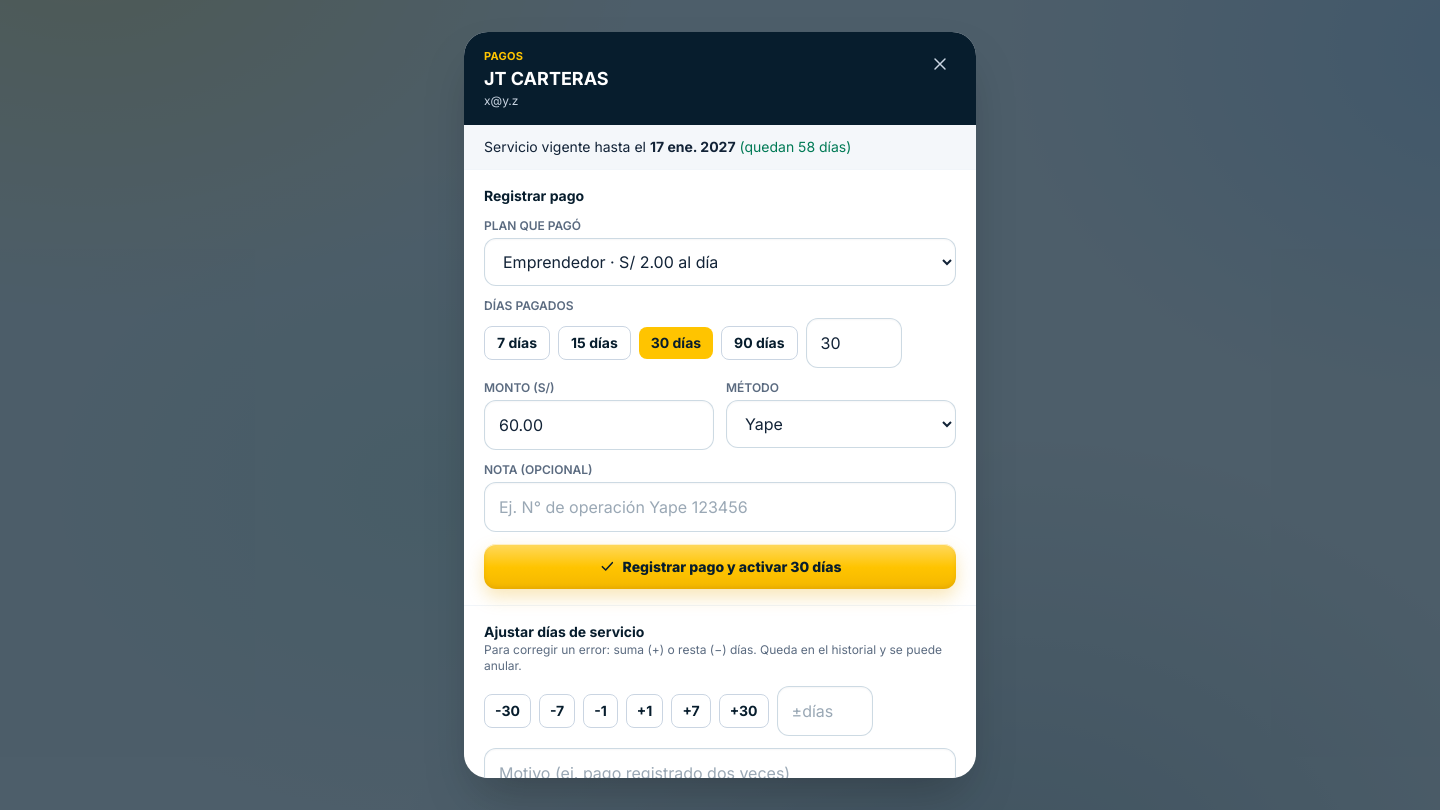
it: ajustar días exige motivo y envía el número con signo
Click the button "-7": (557, 711) top-left (539, 694), bottom-right (575, 728)
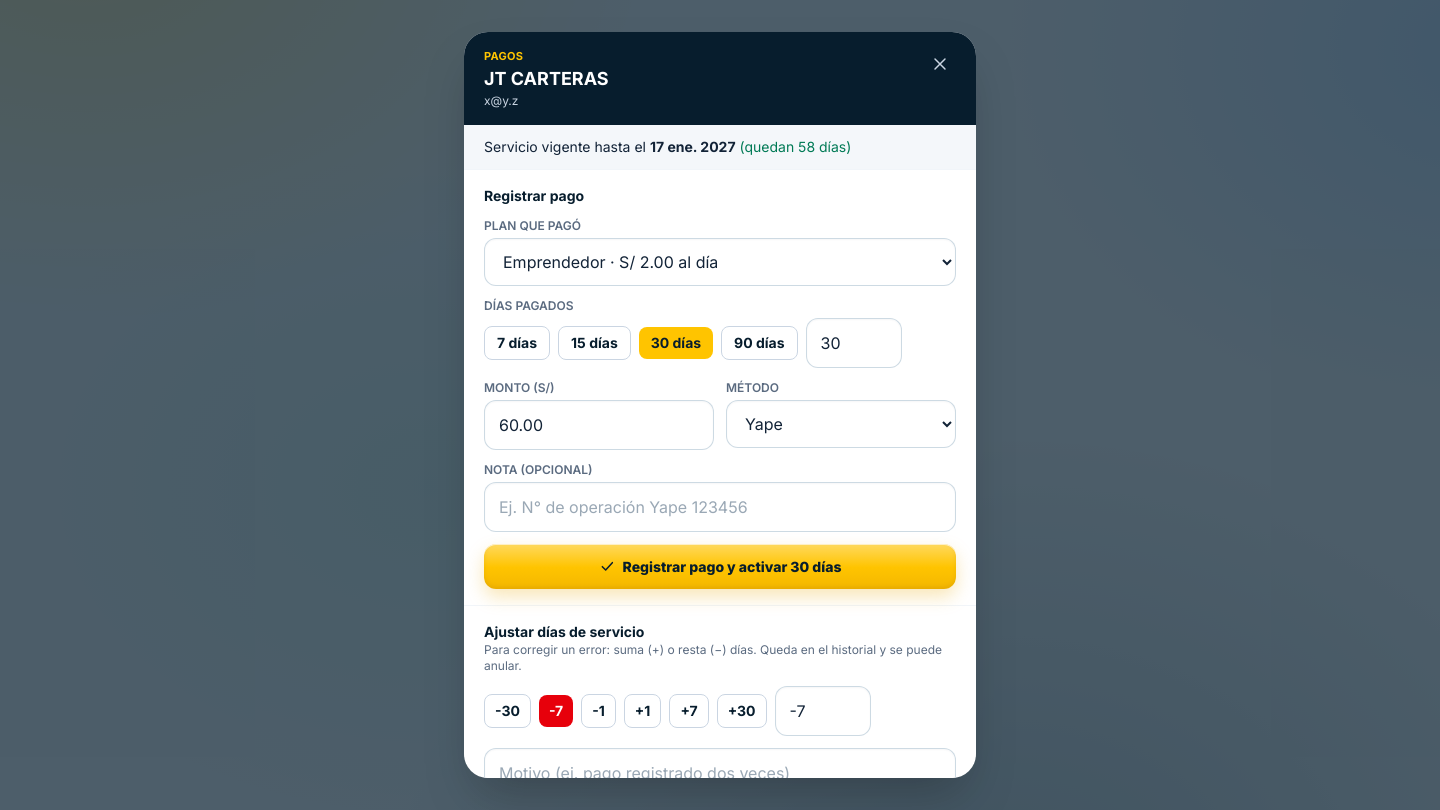
In the field named "Motivo del ajuste": (720, 773) top-left (484, 748), bottom-right (956, 798), type "error de días"
(page scrolled)
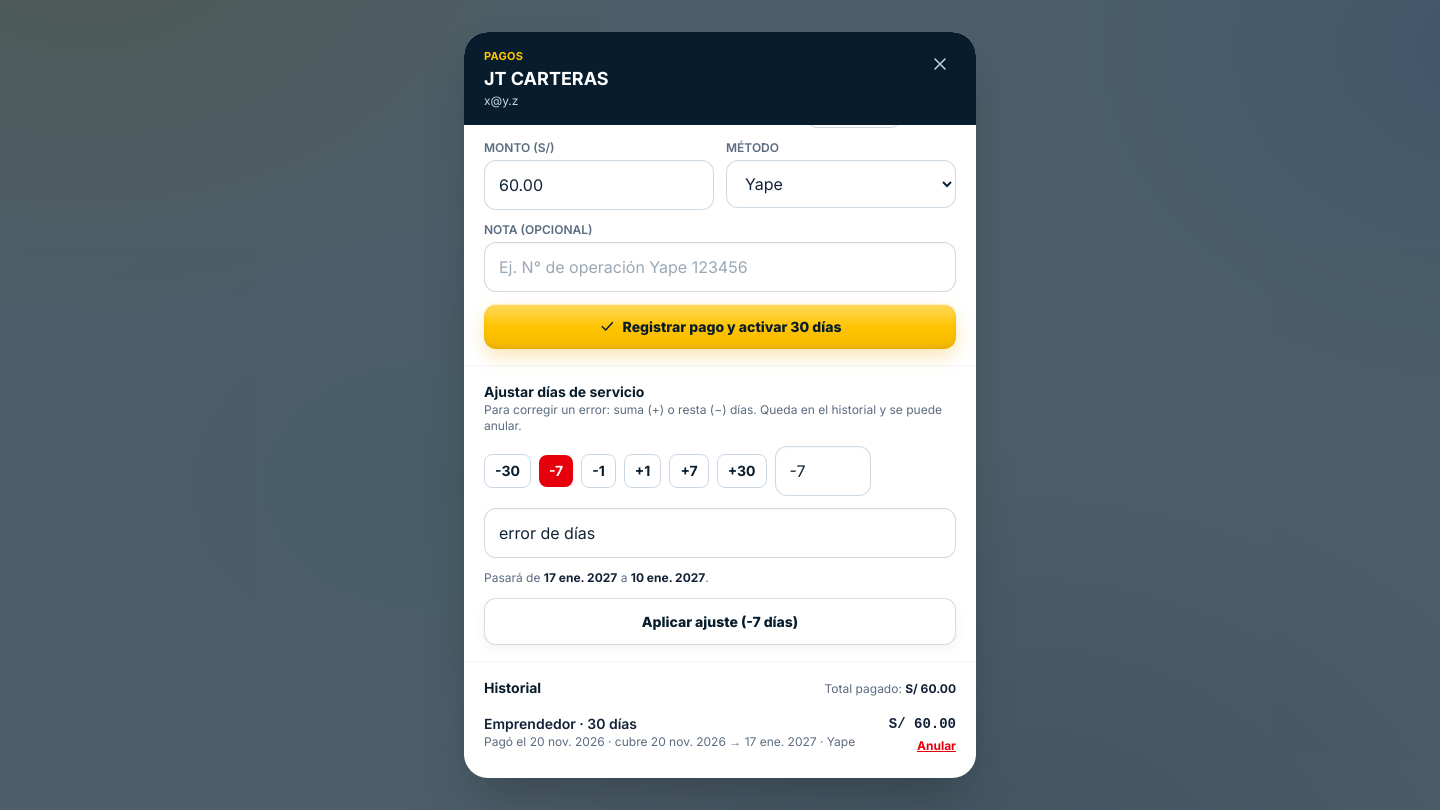
Click the button "Aplicar ajuste (-7 días)": (720, 621) top-left (484, 598), bottom-right (956, 645)
(page scrolled)
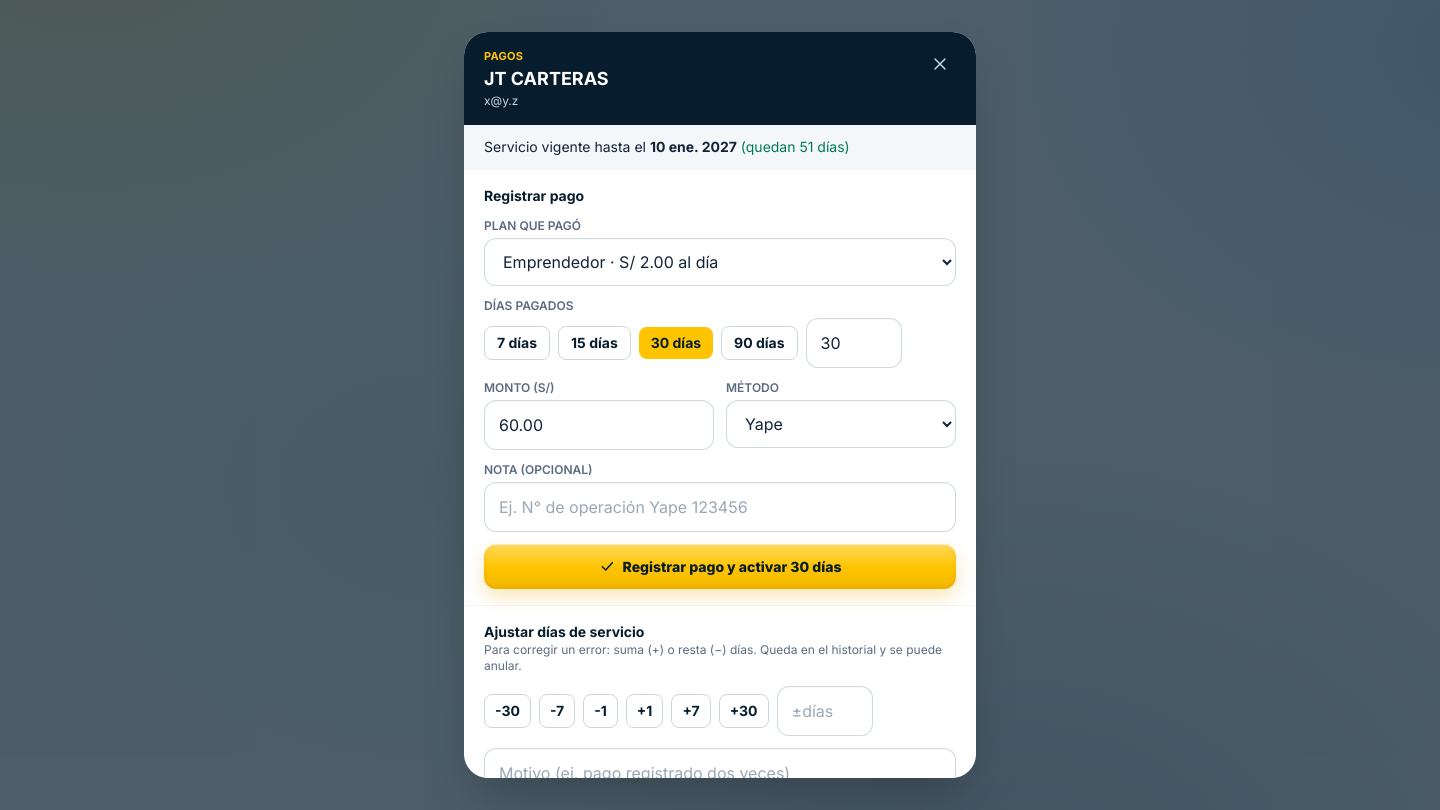
Now the text "(quedan 51 días)" is shown, box top-left (741, 138), bottom-right (850, 155)
